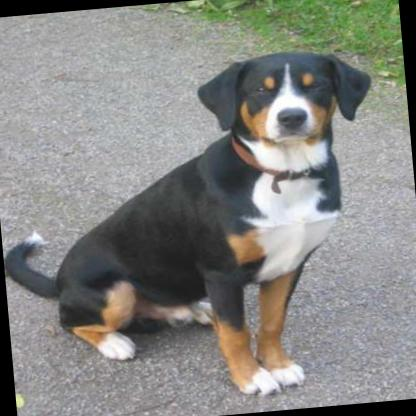EntleBucher: (0, 43, 397, 416)
